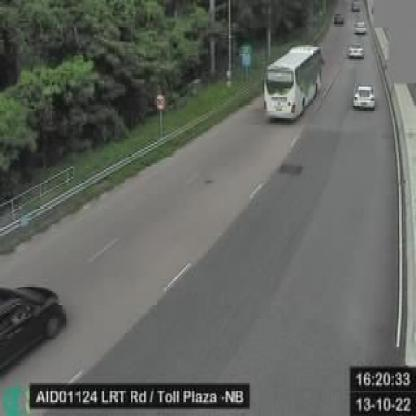Bus: (262, 45, 324, 124)
Car: (1, 282, 67, 379), (352, 84, 376, 109), (348, 42, 366, 59), (354, 20, 366, 33), (334, 11, 345, 25), (352, 2, 362, 13)
